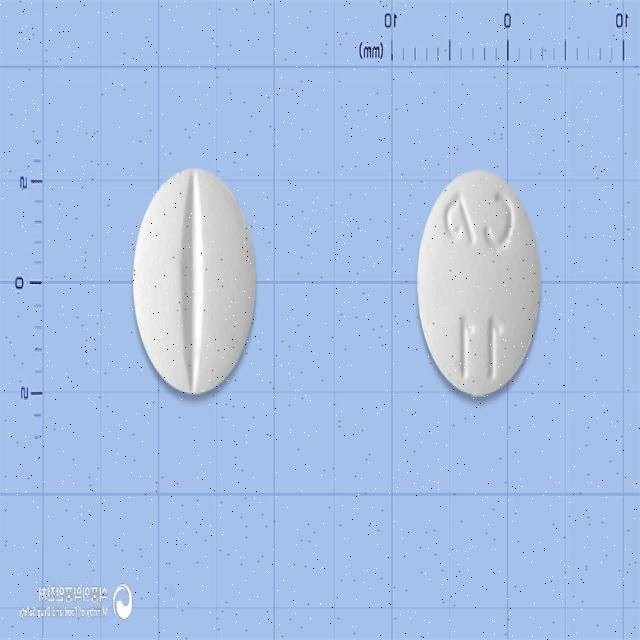Prodin Tab: (413, 164, 542, 398)
